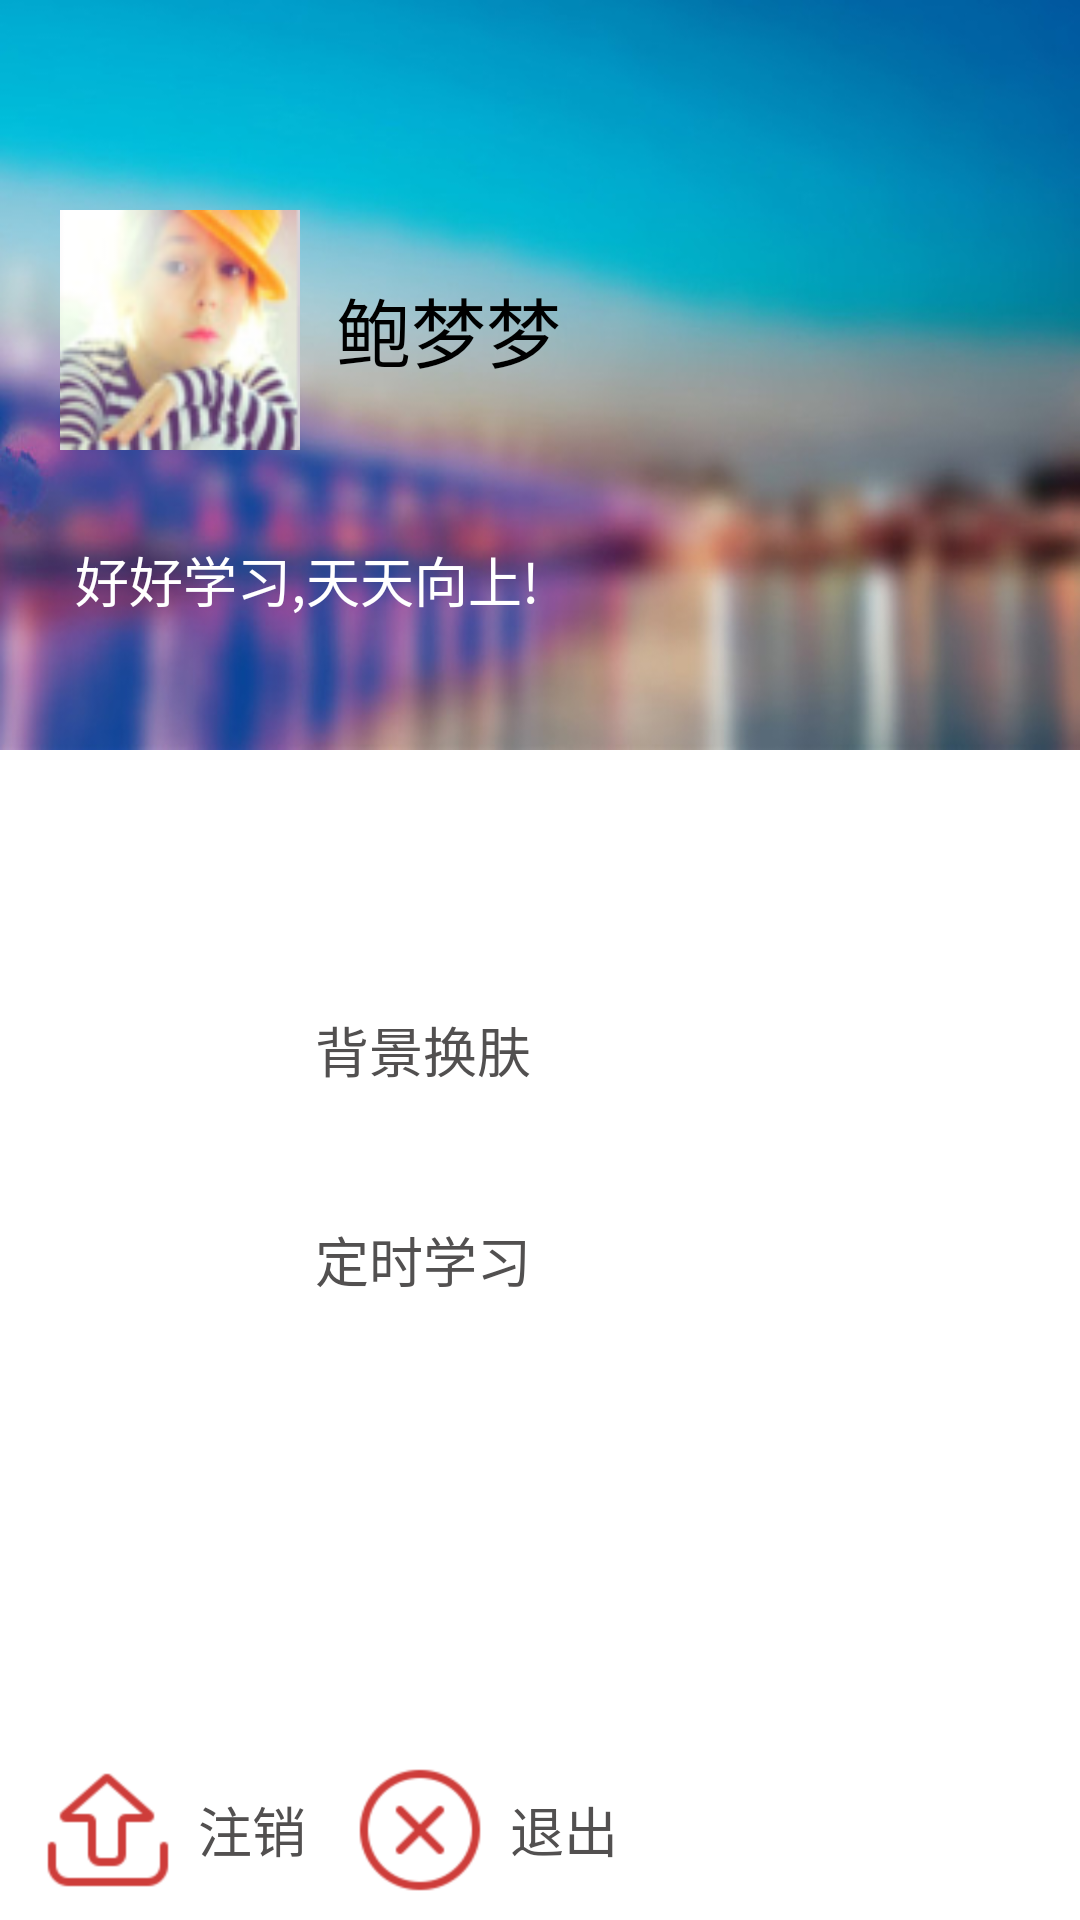

Screen size 1080px×1920px. Icon name, then its center in pixels as point (x, y):
exit: point (420, 1830)
head: point (180, 330)
